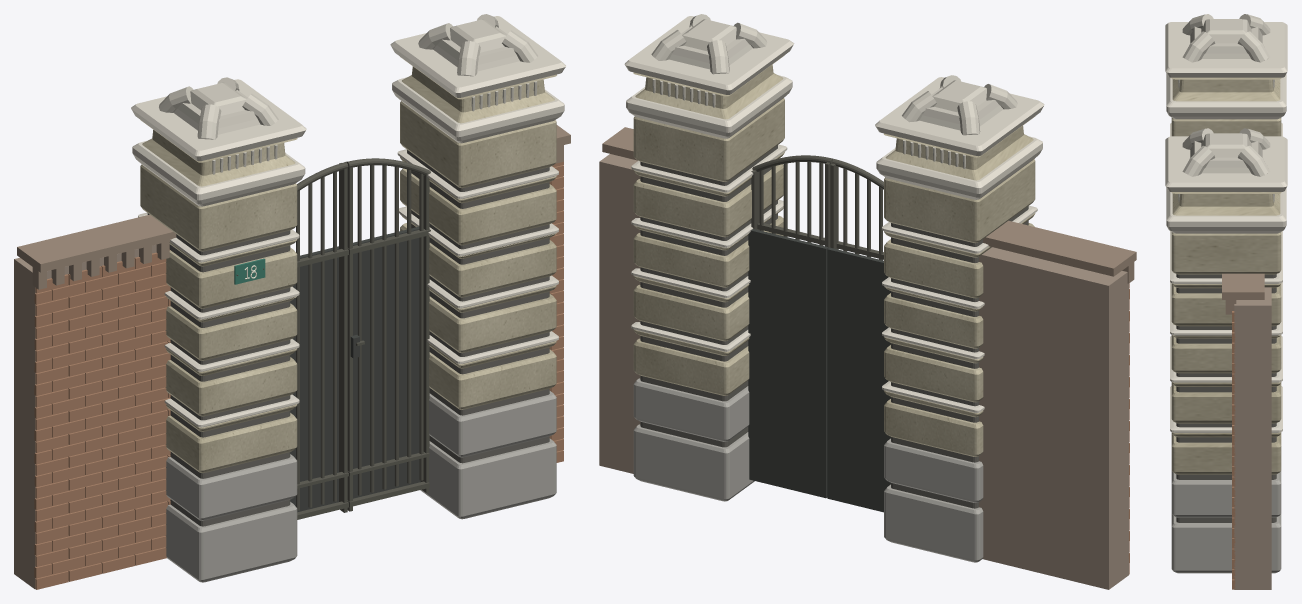
The model's file is pingwu-18-gate-near.glb.
3 renders of one model, left to right at view 1: azimuth 30°, elevation 25°; view 2: azimuth 150°, elevation 25°; view 3: azimuth 270°, elevation 25°, orthographic. The views are drawn at different scales.
Visible parts, largest first — view 1: 外国弄堂平武路18号院门分段石柱与弧顶铁门; view 2: 外国弄堂平武路18号院门分段石柱与弧顶铁门; view 3: 外国弄堂平武路18号院门分段石柱与弧顶铁门.
Part boxes in pixels (bbox=[...]): 外国弄堂平武路18号院门分段石柱与弧顶铁门: bbox=[14, 14, 570, 589]; 外国弄堂平武路18号院门分段石柱与弧顶铁门: bbox=[599, 14, 1136, 589]; 外国弄堂平武路18号院门分段石柱与弧顶铁门: bbox=[1165, 14, 1287, 589].
Bounding box in the file's own units: 3.21 × 2.67 × 0.711.
Materials: 12 (1 with a texture image).
